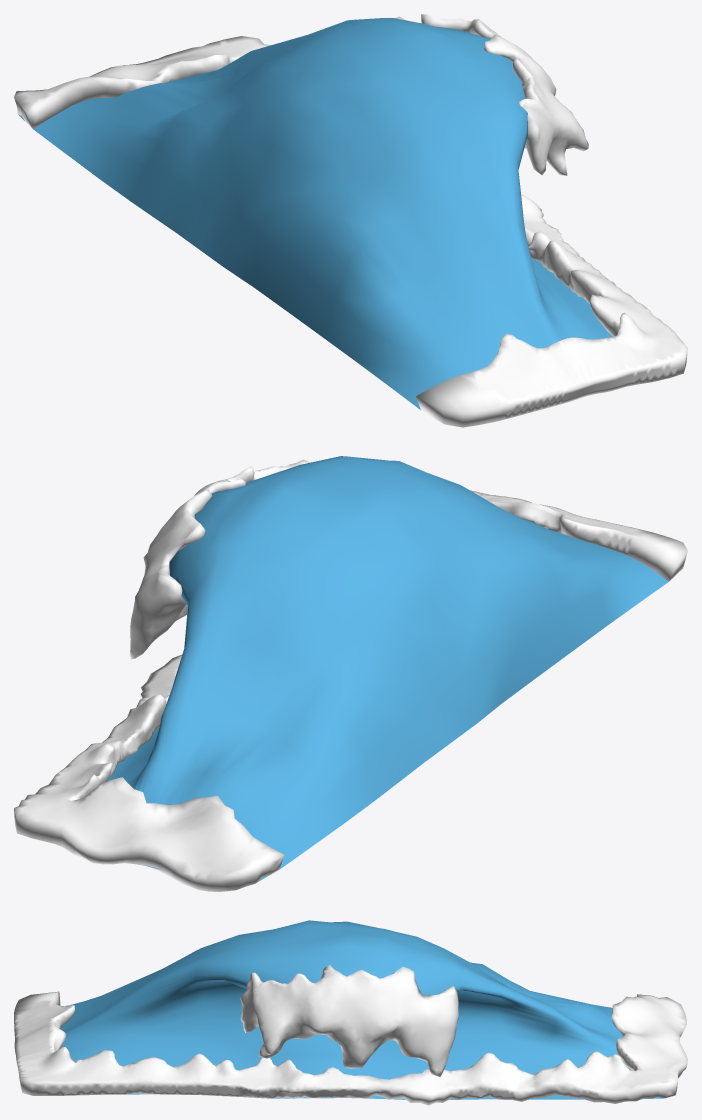
File: wave_wavegame.fbx
The picture shows the model from 3 angles, top to bottom: view 1: azimuth 30°, elevation 25°; view 2: azimuth 150°, elevation 25°; view 3: azimuth 270°, elevation 25°; orthographic projection. The views are drawn at different scales.
Parts seen in each view (by area): view 1: Plane; view 2: Plane; view 3: Plane.
Boxes of the visible parts, box(x1,y1,x2,y2) form: Plane: box(14, 14, 687, 427); Plane: box(14, 456, 687, 891); Plane: box(14, 920, 687, 1105).
Bounding box in the file's own units: 355 × 215 × 885.
